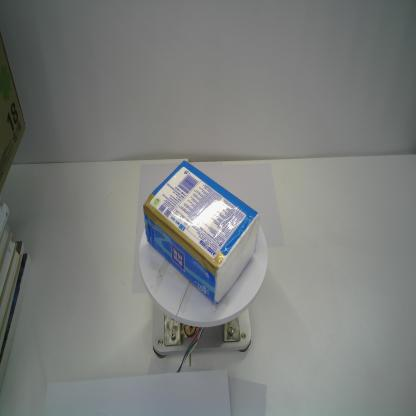Tissue: (142, 158, 261, 306)
